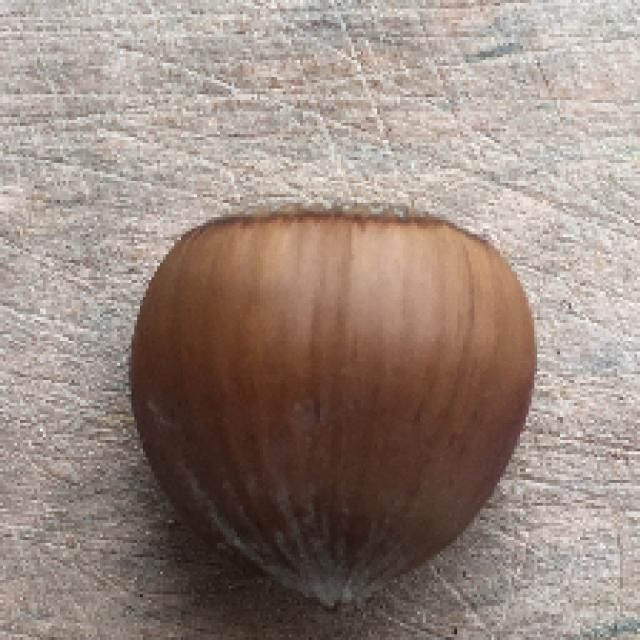qualityHazelnut: (123, 192, 540, 618)
